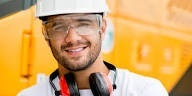safety_goggles: (40, 12, 107, 39)
